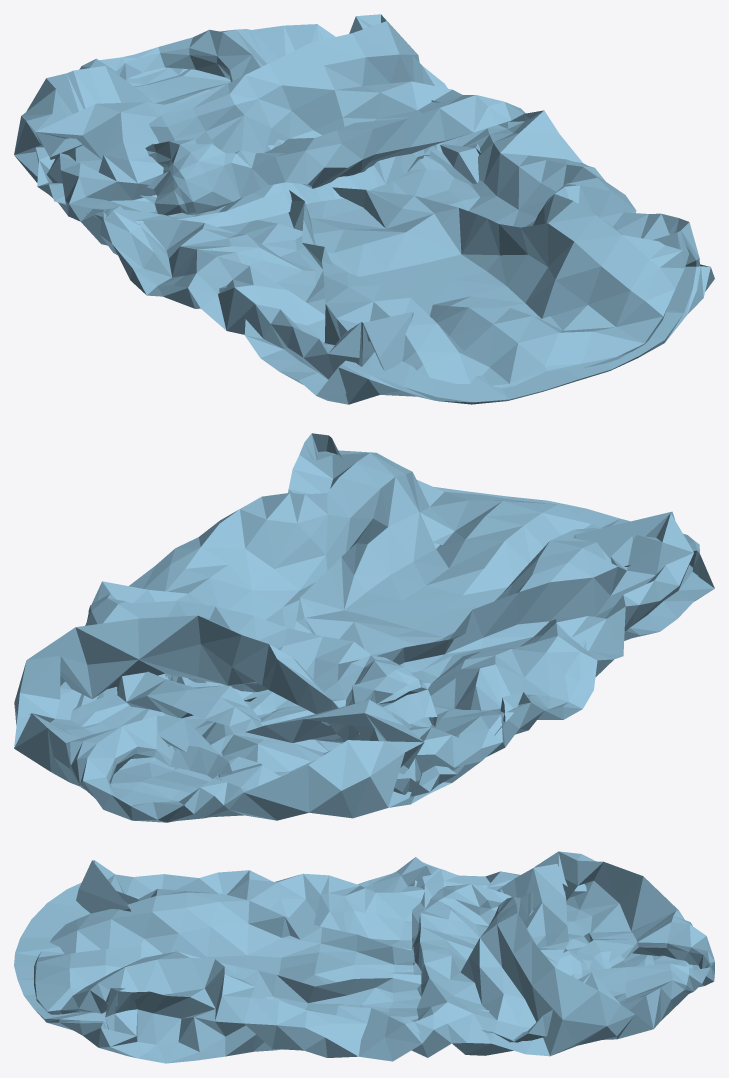
The model's file is frame_00.glb.
The picture shows the model from 3 angles, top to bottom: view 1: azimuth 30°, elevation 25°; view 2: azimuth 150°, elevation 25°; view 3: azimuth 270°, elevation 25°; orthographic projection. The views are drawn at different scales.
Visible parts, largest first — view 1: frame_00.obj; view 2: frame_00.obj; view 3: frame_00.obj.
Boxes of the visible parts, x1,y1,x2,y2 form: frame_00.obj: (14, 14, 714, 404); frame_00.obj: (14, 433, 714, 822); frame_00.obj: (14, 851, 714, 1063).
Bounding box in the file's own units: 1.05 × 0.3056 × 1.75.
